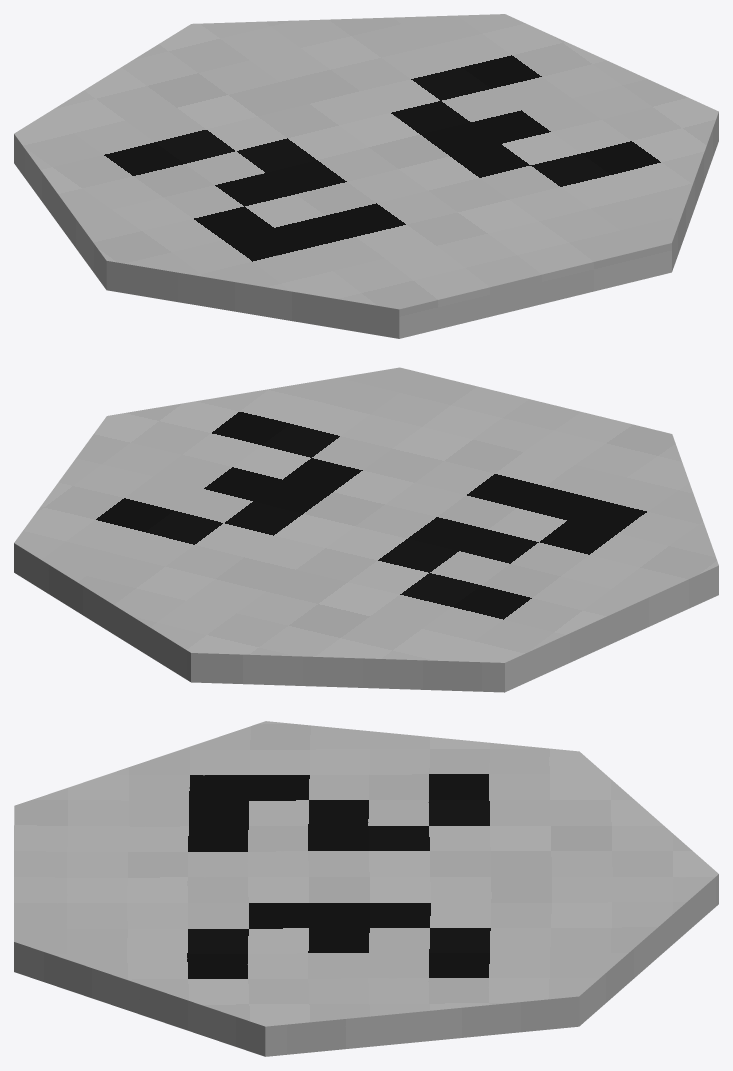
File: 2Euro.fbx
The picture shows the model from 3 angles, top to bottom: view 1: azimuth 30°, elevation 25°; view 2: azimuth 150°, elevation 25°; view 3: azimuth 270°, elevation 25°; orthographic projection. The views are drawn at different scales.
Visible parts, largest first — view 1: 2; view 2: 2; view 3: 2.
Boxes of the visible parts, <box> form: 2: <box>14,14,718,338</box>; 2: <box>14,367,718,692</box>; 2: <box>14,721,718,1056</box>.
Size of the model in its own units: 7.22 by 0.333 by 7.04.
